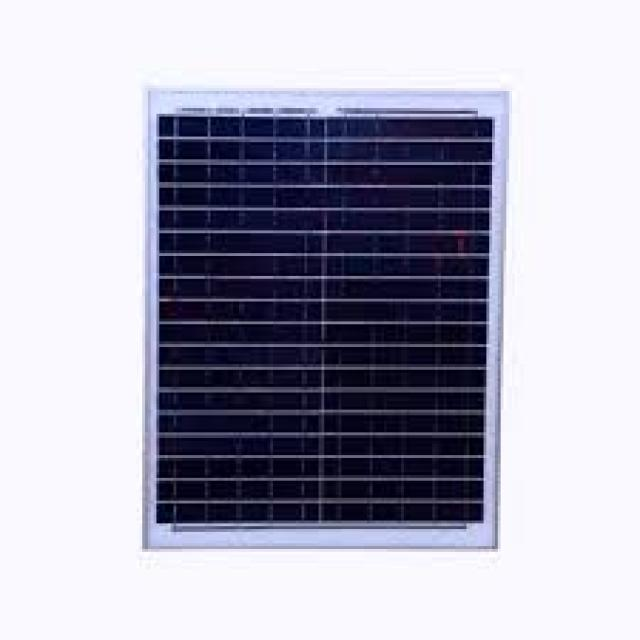Solar: (158, 103, 491, 554)
